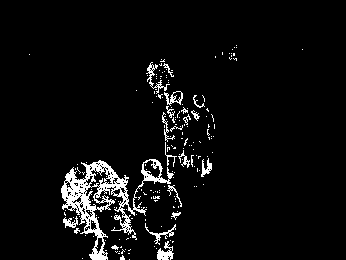person: (134, 157, 180, 260), (184, 92, 215, 179), (162, 89, 191, 182)
